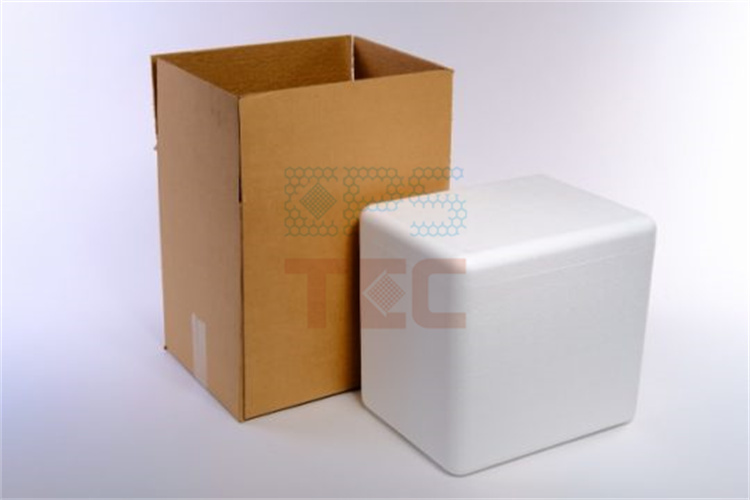泡沫箱: (360, 178, 656, 476)
